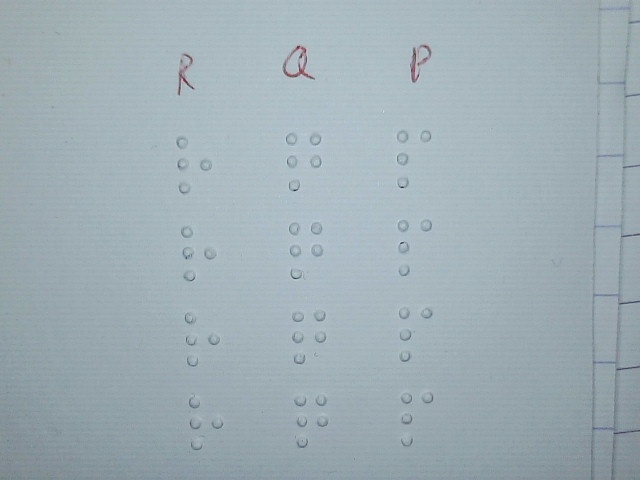P: (395, 128, 433, 188), (396, 216, 433, 276), (398, 305, 433, 361), (399, 390, 434, 446)
Q: (285, 131, 323, 191), (288, 220, 324, 279), (291, 308, 327, 364), (293, 391, 329, 447)
R: (175, 135, 213, 195), (180, 224, 218, 281), (184, 310, 220, 368), (188, 394, 224, 452)
